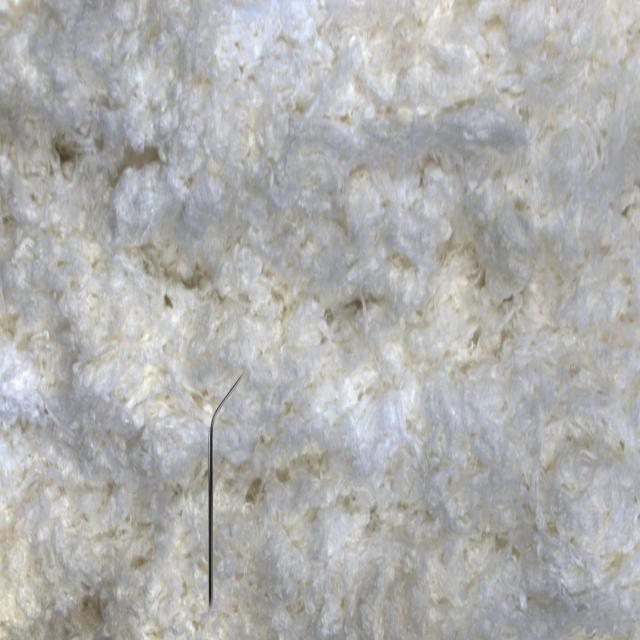dust: (168, 346, 262, 640)
